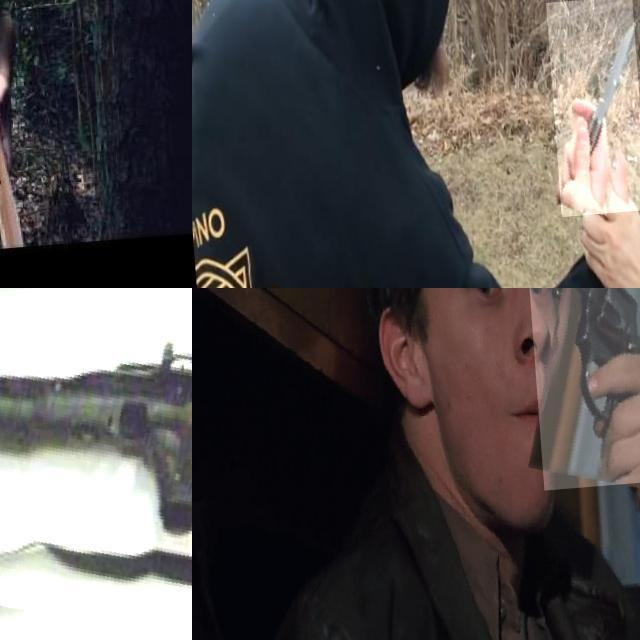-: (542, 3, 640, 223), (0, 0, 74, 129)
gun-knife-thesis - v11 Yolov5 augmented: (0, 288, 192, 640), (523, 288, 640, 497)
